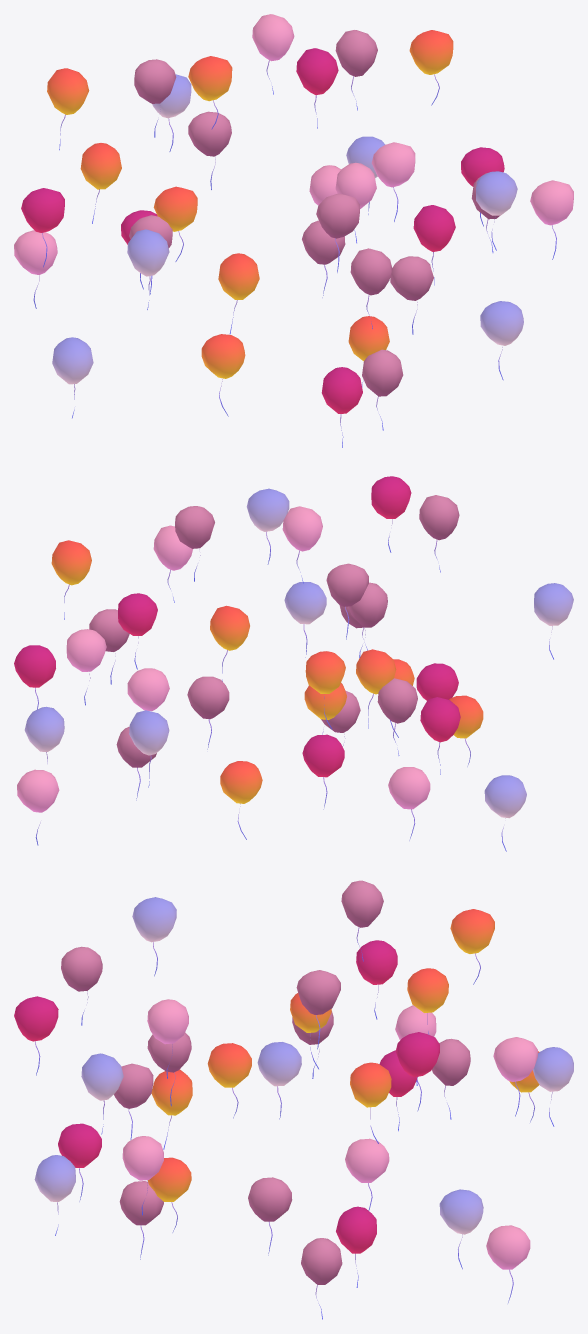
File: balloon-group01.glb
3 renders of one model, top to bottom at view 1: azimuth 30°, elevation 25°; view 2: azimuth 150°, elevation 25°; view 3: azimuth 270°, elevation 25°, orthographic. The views are drawn at different scales.
Visible parts, largest first — view 1: Balloon_Spiral2.062; view 2: Balloon_Spiral2.062; view 3: Balloon_Spiral2.062.
Part boxes in pixels (x1,y1,x2,y2): Balloon_Spiral2.062: (14,14,573,447); Balloon_Spiral2.062: (14,476,573,851); Balloon_Spiral2.062: (14,880,573,1319).
Size of the model in its own units: 17.06 by 10.64 by 16.92.
Materials: 1 (1 with a texture image).
